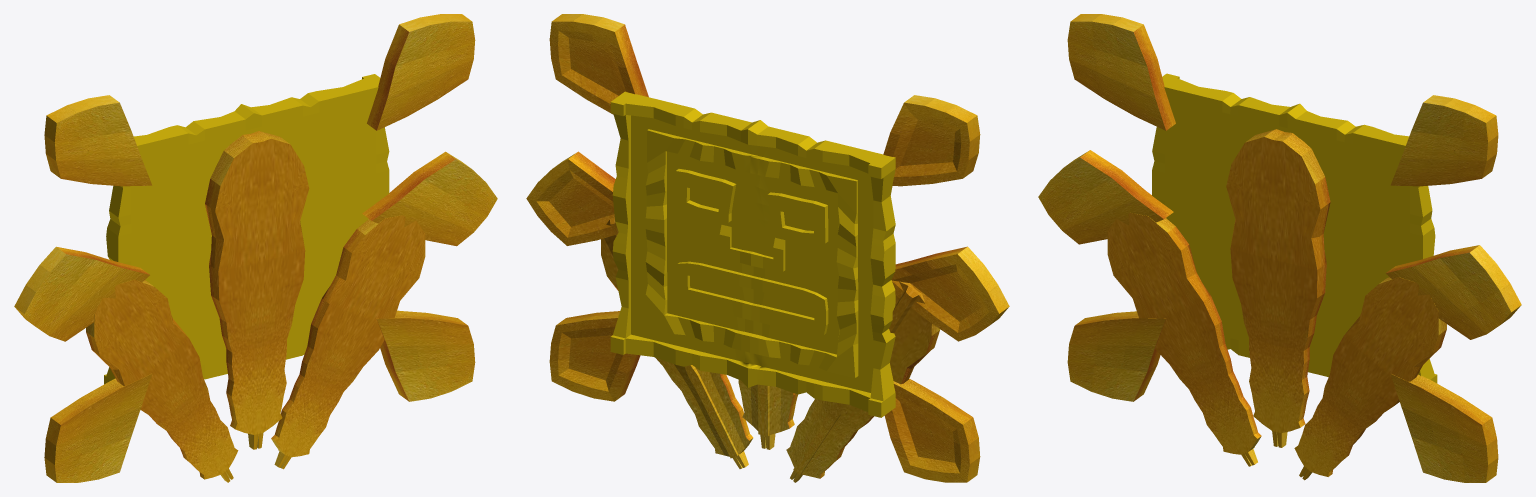
File: CoronaSolar.glb
The picture shows the model from 3 angles, left to right: view 1: azimuth 30°, elevation 25°; view 2: azimuth 150°, elevation 25°; view 3: azimuth 330°, elevation 25°; orthographic projection.
Parts seen in each view (by area): view 1: plumas, rayitos, sol; view 2: sol, rayitos, plumas; view 3: plumas, rayitos, sol.
Boxes of the visible parts, bbox=[...] form: plumas: bbox=[86, 131, 425, 482]; rayitos: bbox=[14, 14, 497, 482]; sol: bbox=[104, 74, 389, 384]; sol: bbox=[610, 91, 895, 417]; rayitos: bbox=[526, 14, 1009, 482]; plumas: bbox=[601, 217, 940, 482]; plumas: bbox=[1107, 129, 1446, 480]; rayitos: bbox=[1038, 14, 1521, 482]; sol: bbox=[1152, 73, 1437, 383].
Bounding box in the file's own units: 0.1533 × 0.1276 × 0.0144.
2 materials, 1 textured.
